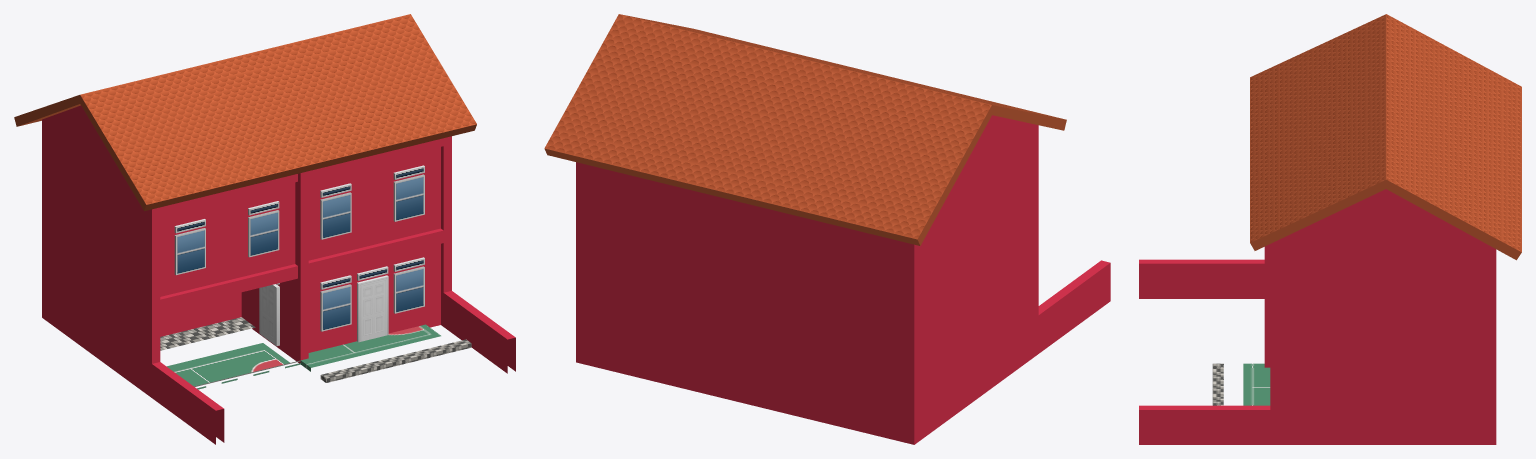
File: TetanggaBesar3.fbx
3 renders of one model, left to right at view 1: azimuth 30°, elevation 25°; view 2: azimuth 150°, elevation 25°; view 3: azimuth 270°, elevation 25°, orthographic. The views are drawn at different scales.
Visible parts, largest first — view 1: Body1NPCT3_LOD0; view 2: Body1NPCT3_LOD0; view 3: Body1NPCT3_LOD0.
Boxes of the visible parts, x1,y1,x2,y2 form: Body1NPCT3_LOD0: (14, 14, 515, 444); Body1NPCT3_LOD0: (544, 14, 1110, 444); Body1NPCT3_LOD0: (1139, 14, 1521, 444).
Size of what is drawn, in the model's own units: 1475 by 1133 by 1441.
